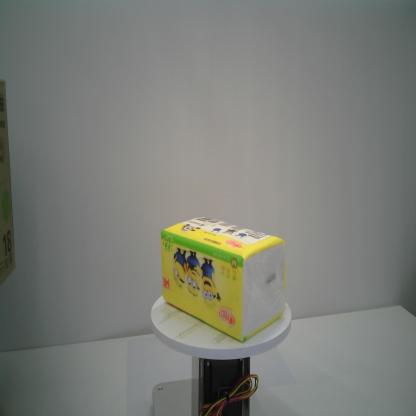Tissue: (160, 214, 288, 344)
